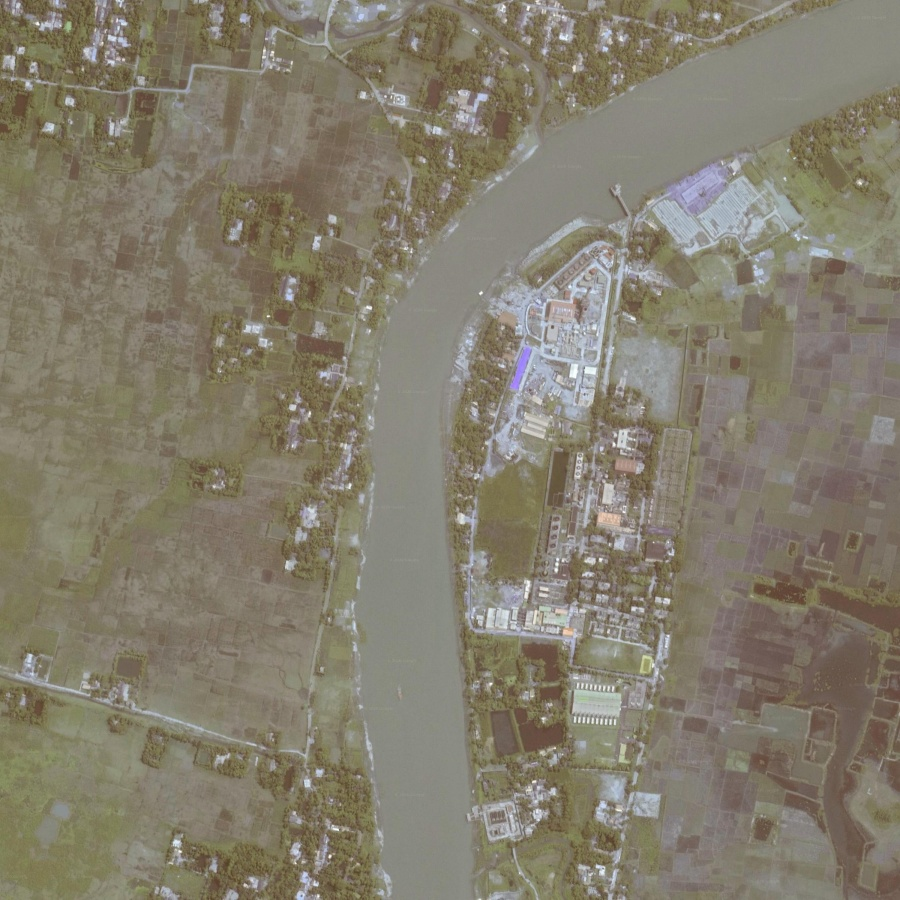PowerPlant: (537, 252, 608, 407)
